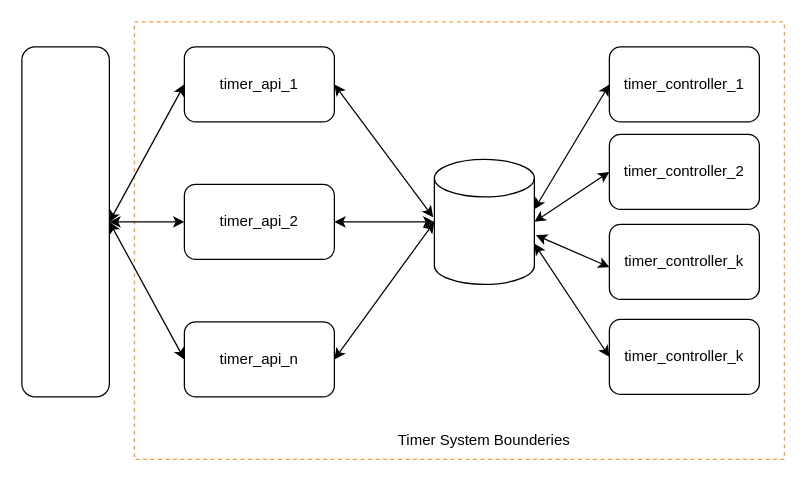
This 806x481 diagram has some shape labels left out. Here are the shapes that lost their labels. From the top down, the box of each, then its label:
(21, 46, 109, 397): Cloud HTTP Load Balancer
(433, 158, 534, 284): timer_db (MySQL)
